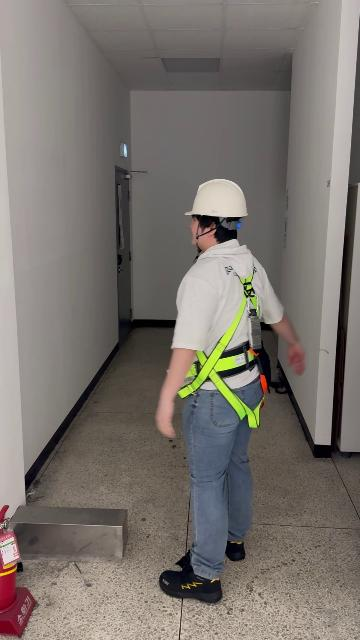helmet_worn: (183, 178, 249, 219)
shoe_worn: (159, 561, 222, 603), (225, 538, 245, 561)
vest_worn: (176, 269, 268, 425)
